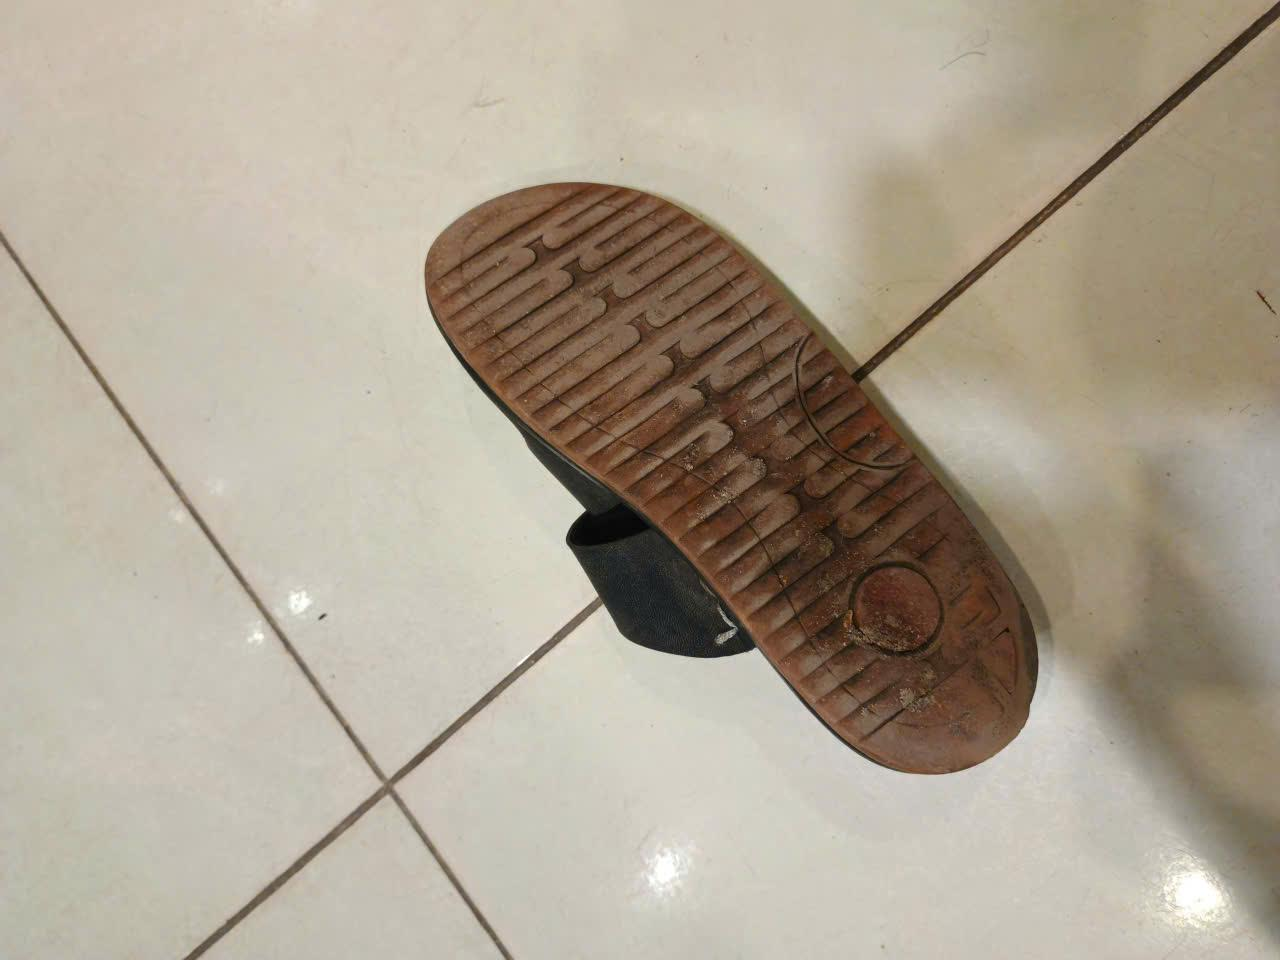Con lai: (424, 181, 1038, 779)
